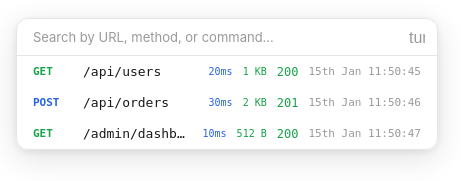
Test case: EntrySelector › fuzzy-filters entries by path
Type "orders" into the field with placeholder "Search by URL, method, or command..." at [211, 37], box [17, 19, 405, 55]
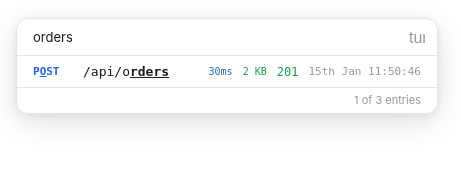
Check: the text "201" is shown, box [277, 64, 298, 78]
Check: the text "200" is gone
